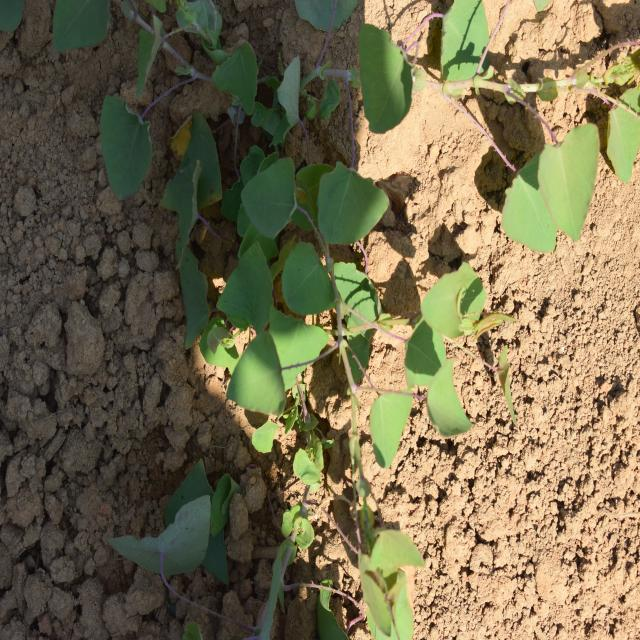Asiatic_Smartweed: (216, 126, 372, 432), (100, 17, 241, 264), (371, 248, 508, 460), (478, 89, 627, 247), (246, 515, 429, 631)
